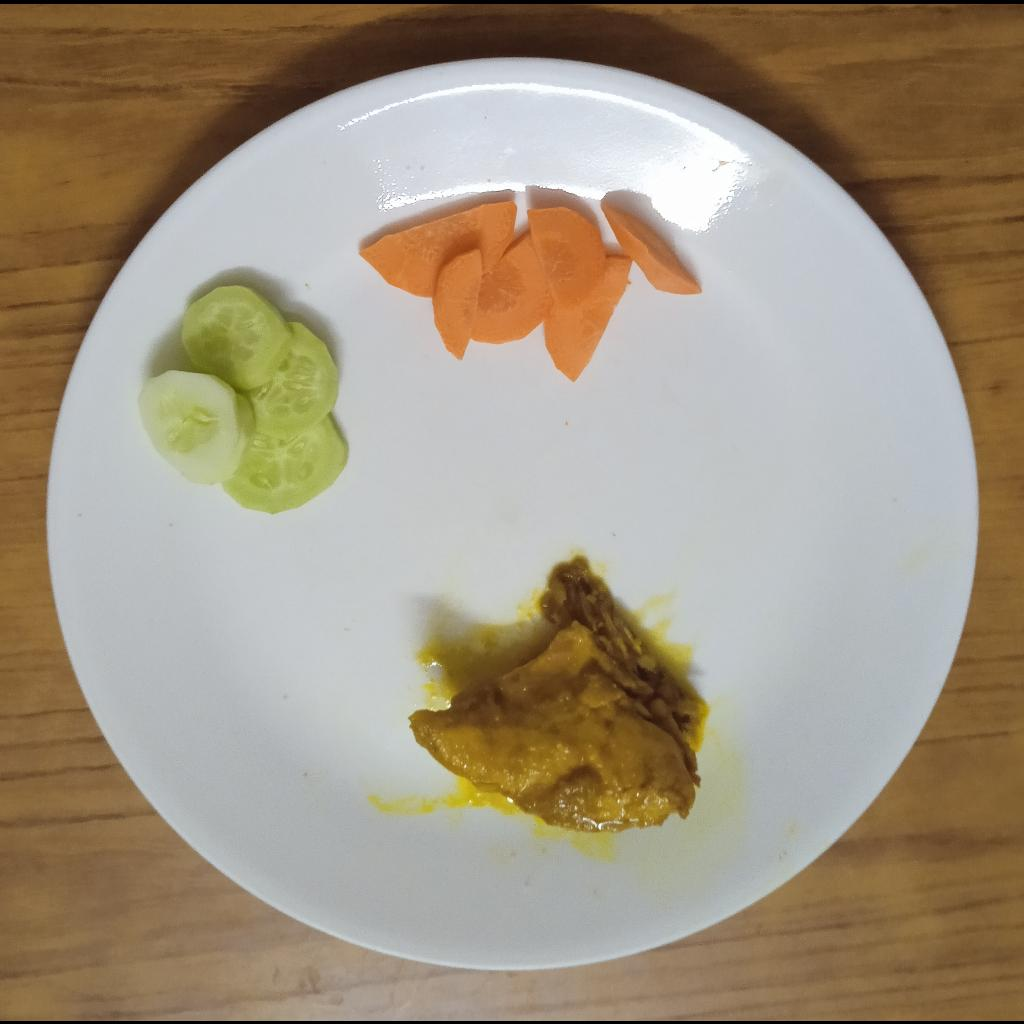carrot: (363, 200, 704, 382)
chicken: (405, 560, 702, 831)
cucumber: (136, 280, 351, 514)
